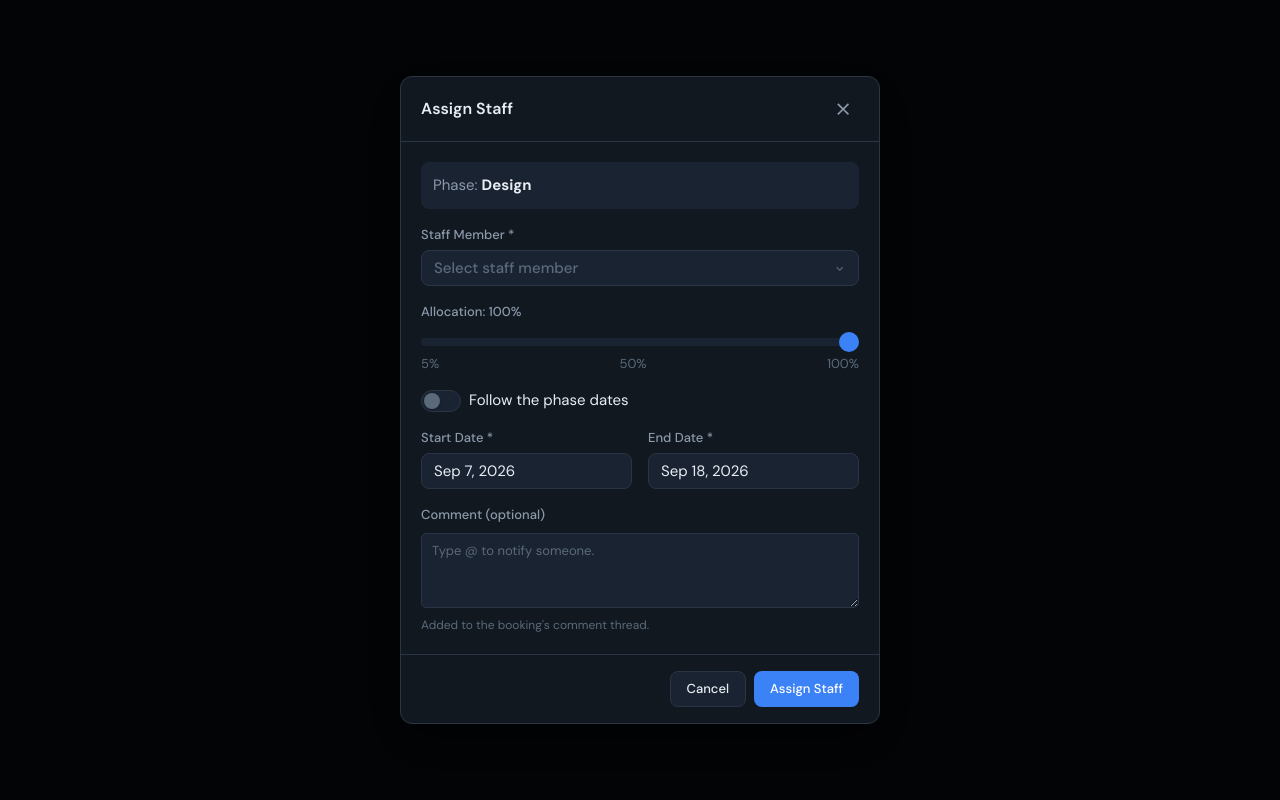
Test case: AssignmentModal: new phase booking › books someone already on the phase again without dates, and shows a refused placement in place
The image size is (1280, 800).
Step 1. Click the button "Select staff member" → (506, 268), box [421,250,859,286]
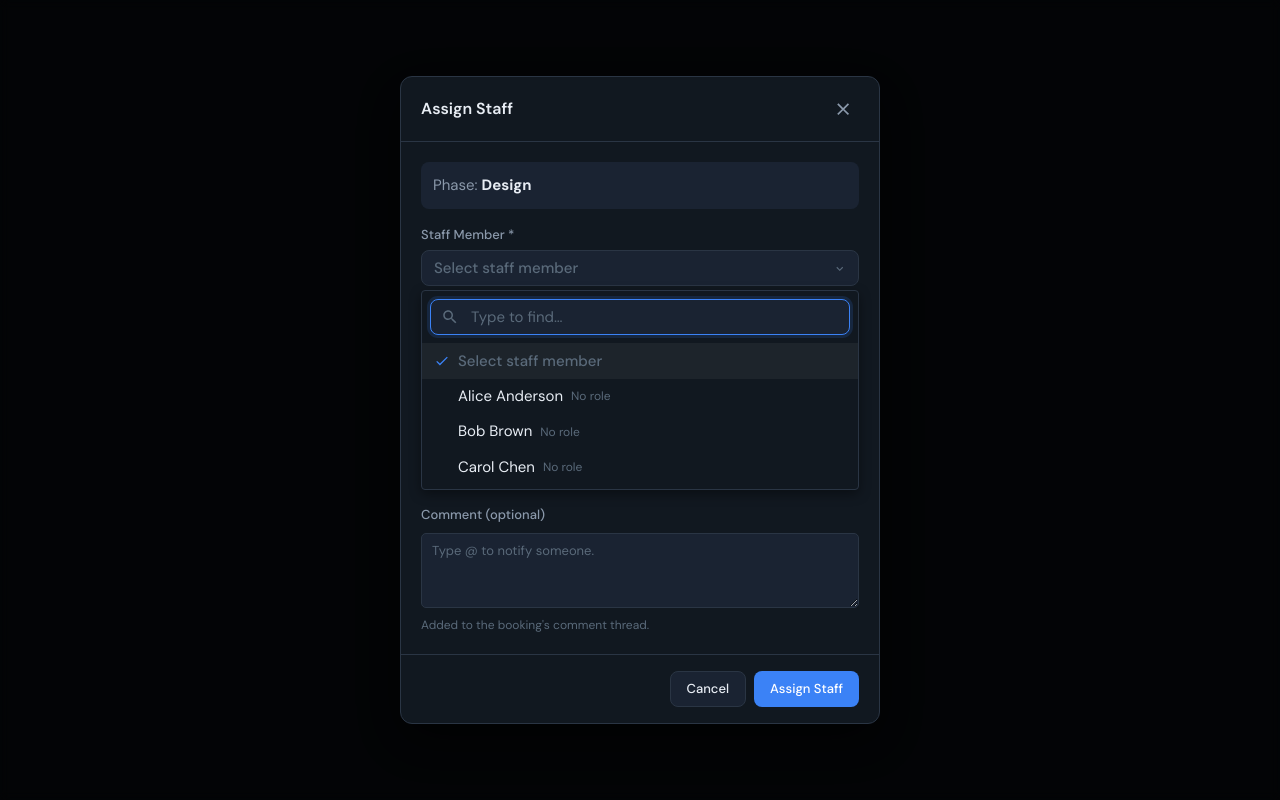
Step 2. Click the option "Bob Brown No role" → (519, 431), box [458,421,580,441]
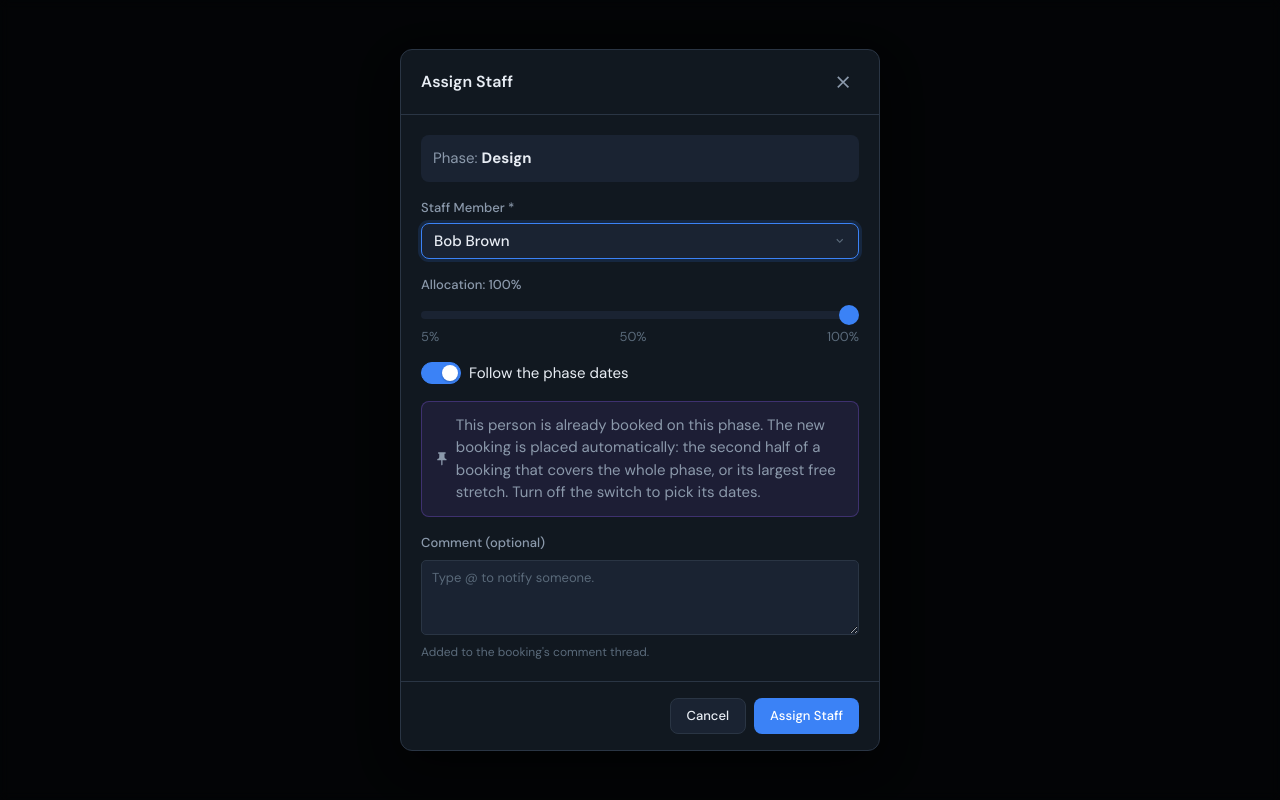
Step 3. Click the button "Assign Staff" → (806, 716), box [754,698,859,734]
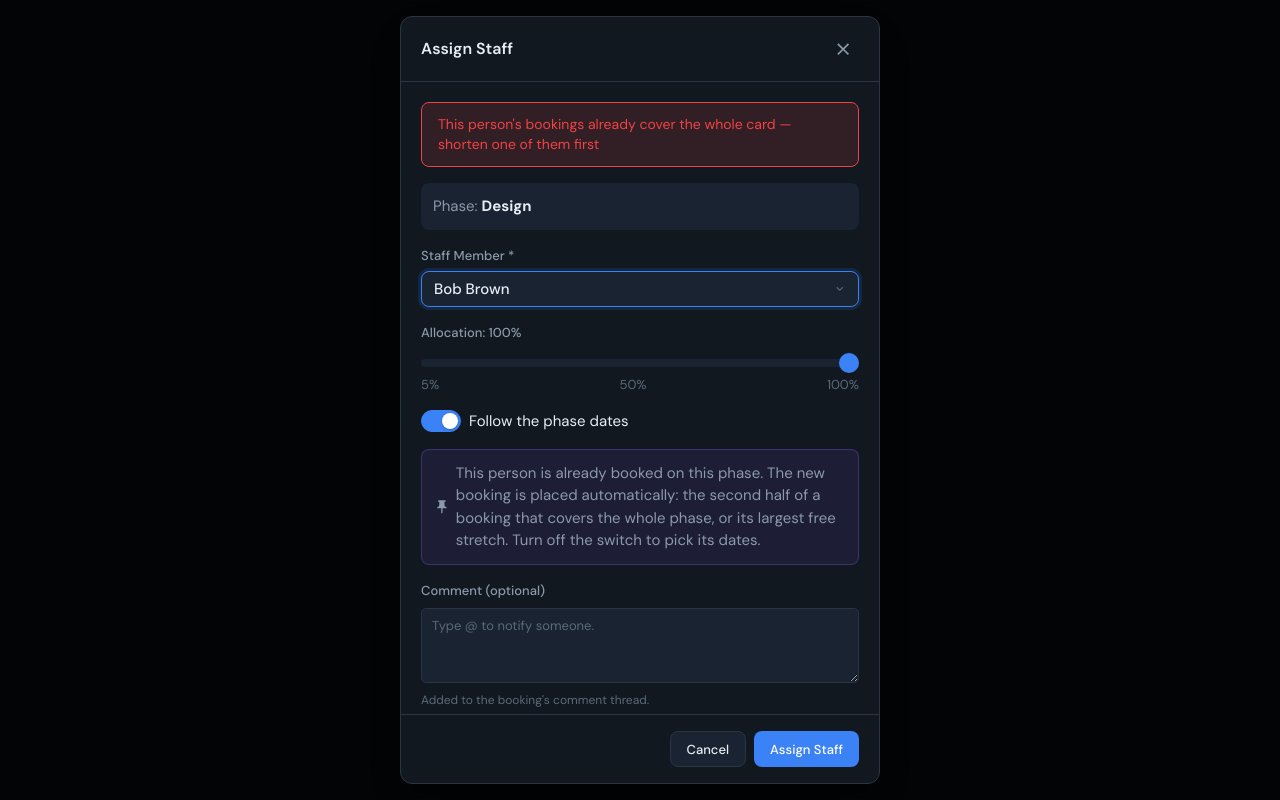
expect the message reads "This person's bookings already cover the whole card — shorten one of them first": met, box [438,115,792,153]
